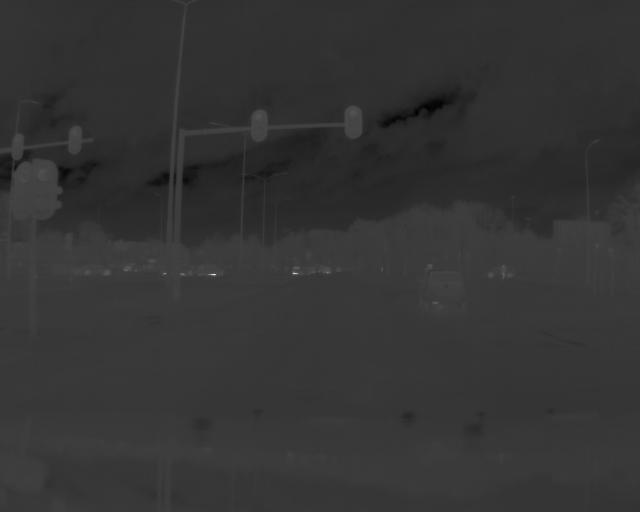car: (425, 264, 469, 316)
person: (499, 263, 510, 282)
